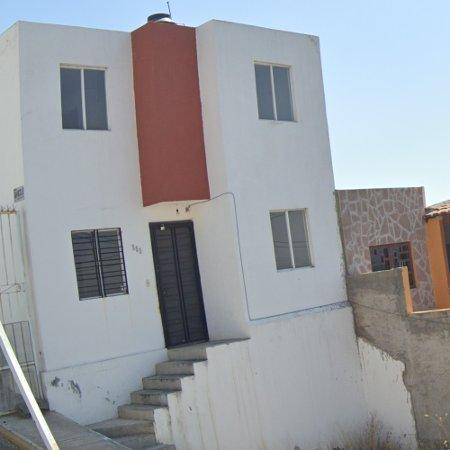stairs: (89, 342, 228, 450)
